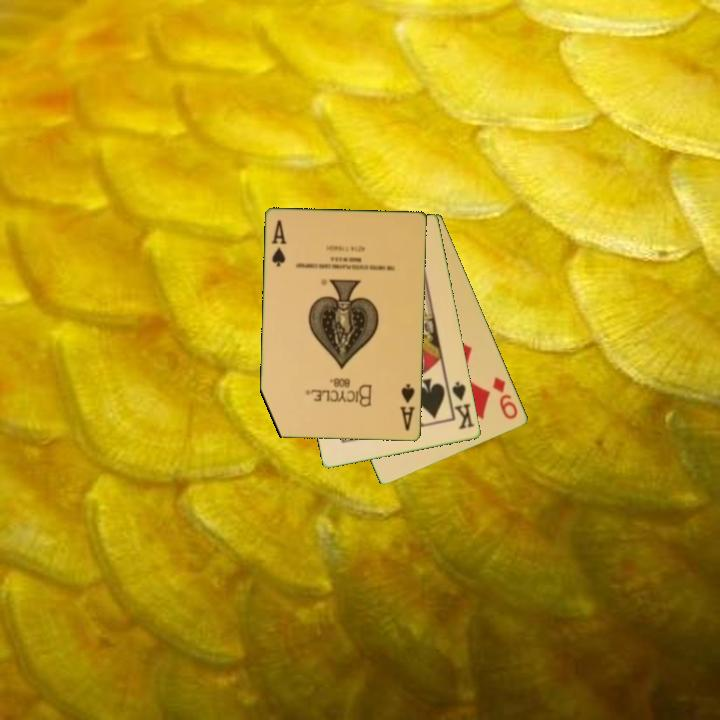9d: (489, 373, 521, 422)
As: (268, 216, 290, 270), (397, 381, 418, 434)
Ks: (444, 378, 478, 432)
